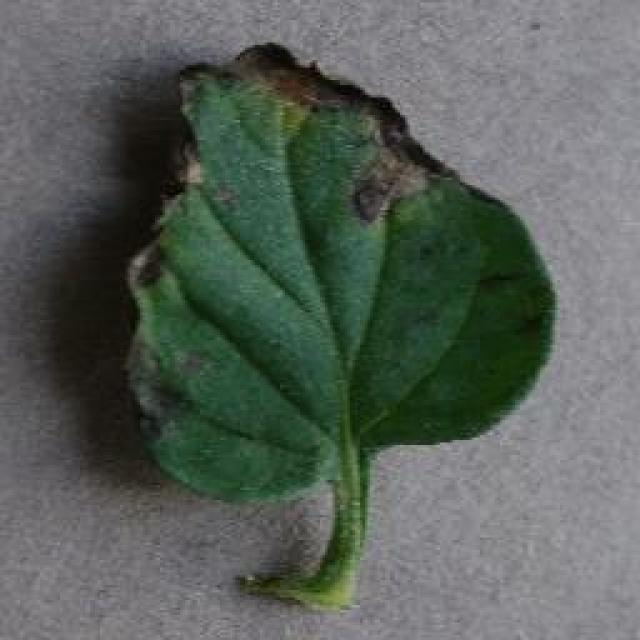Tomato_Early_Blight: (118, 37, 483, 515)
